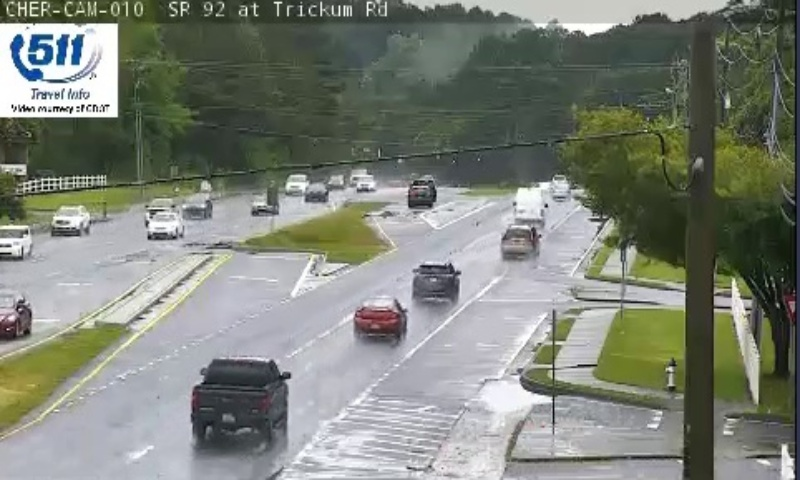car: (190, 359, 288, 427), (355, 297, 406, 337), (413, 263, 458, 297), (501, 225, 539, 256)
van: (514, 187, 542, 229)
